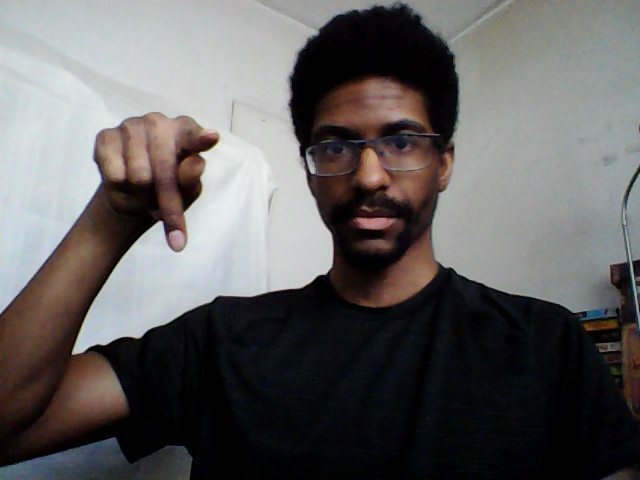p: (91, 105, 224, 256)
